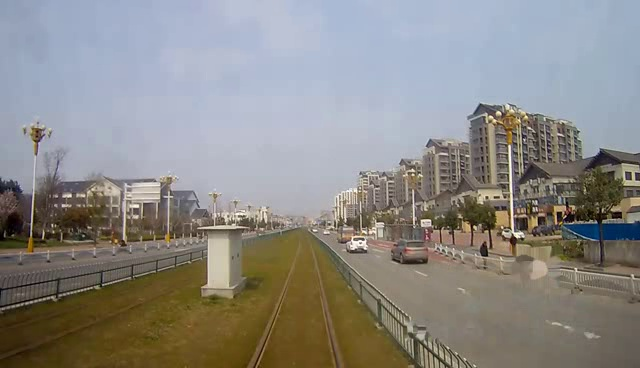car: (390, 239, 434, 266), (347, 235, 371, 255)
